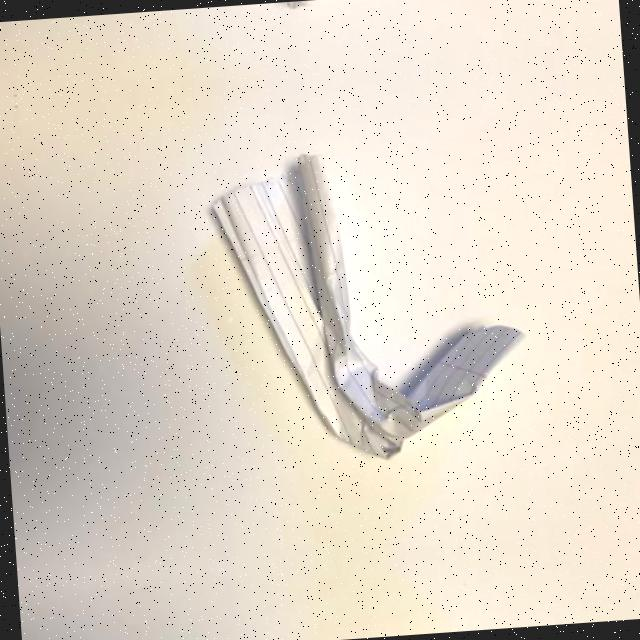paper: (186, 100, 548, 489), (179, 0, 518, 52), (223, 622, 559, 640)
